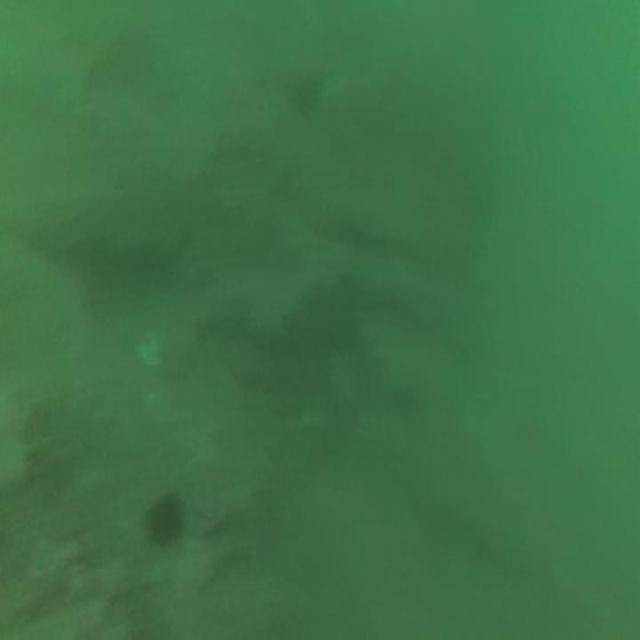echinus: (149, 495, 183, 548)
